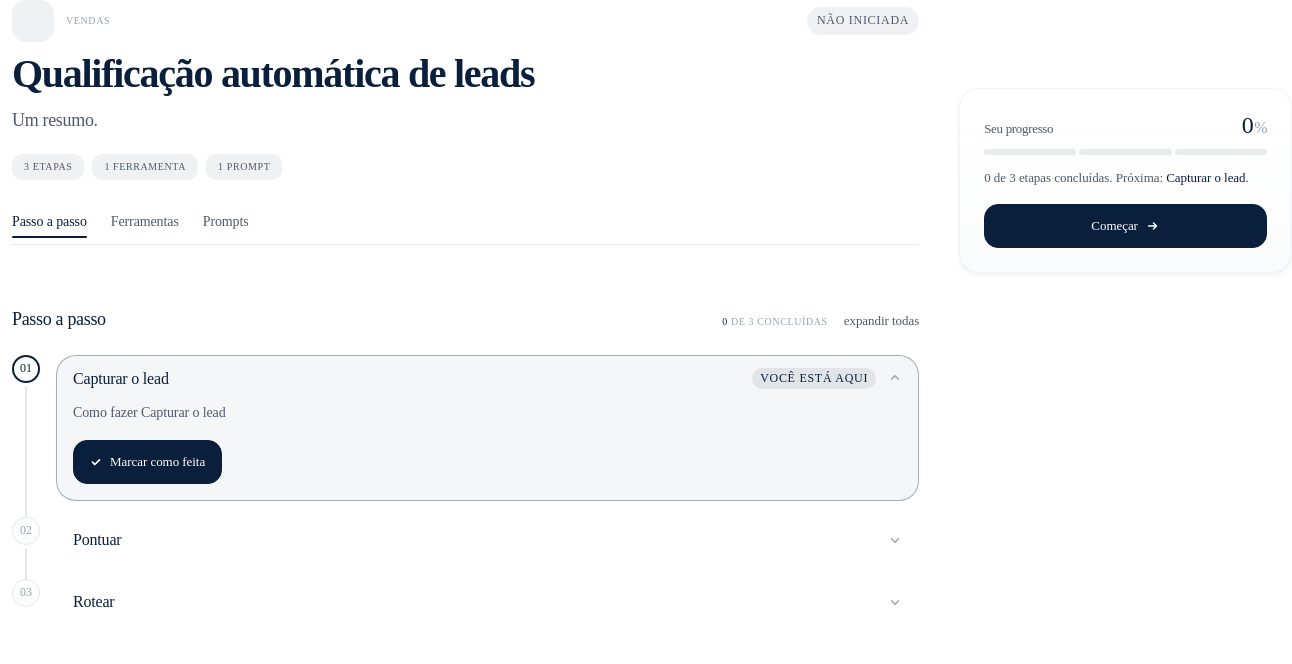
Scenario: ficha da solução › marcar pelo botão do painel não fecha o painel sob o foco
What coordinates should you click on to do the following:
click the button "Marcar como feita" below "Como fazer Capturar o lead"
I would click on:
 (148, 462)
Its box is [73,440,222,484].
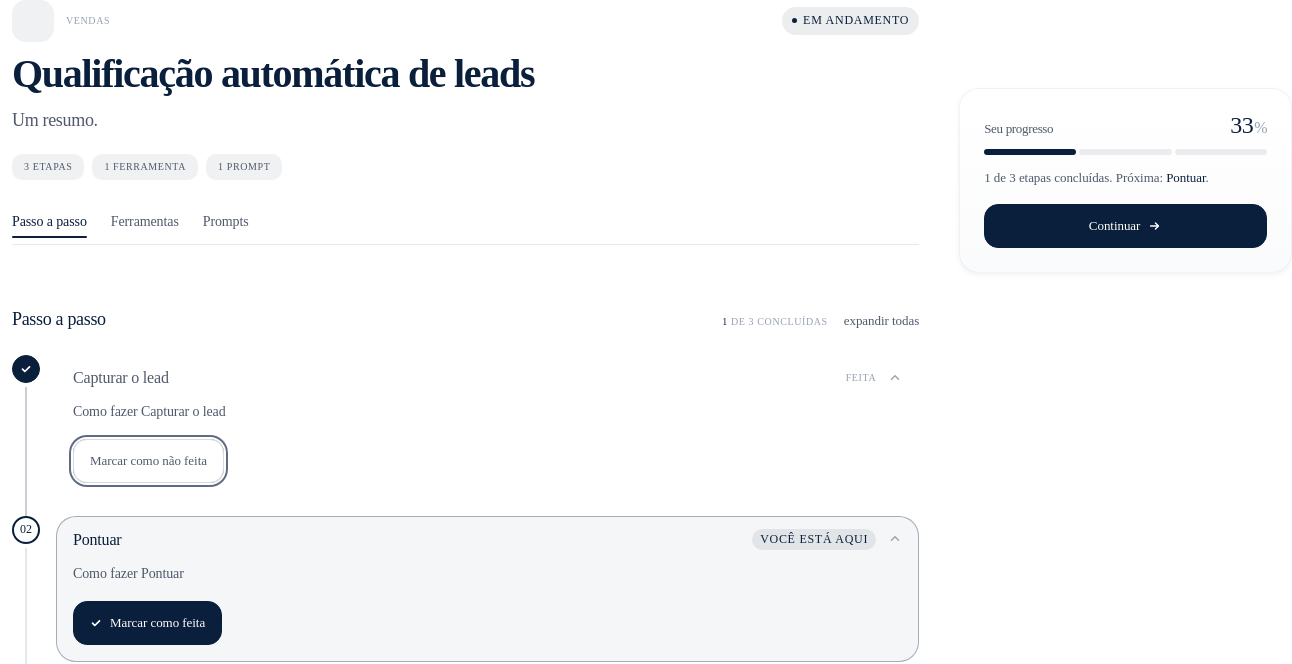
Expected: the button "Capturar o lead feita" is shown, [57,356,918,400]
Now the button "Marcar como não feita" is shown, box [73,439,224,483]
